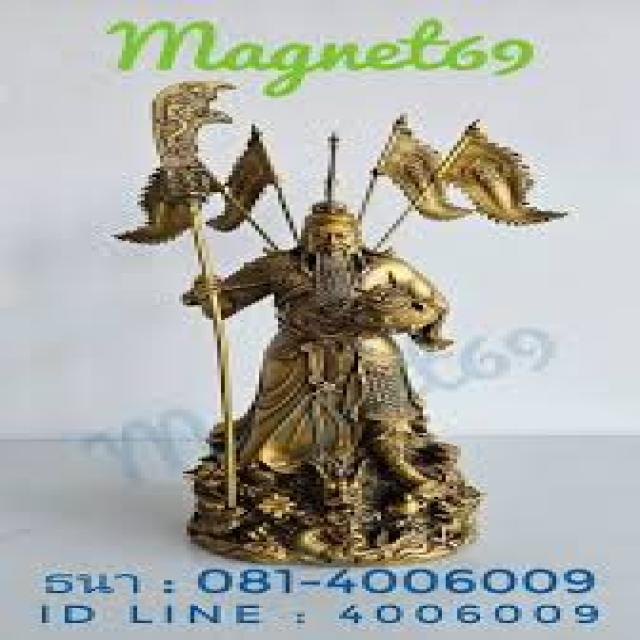Guan Yu: (206, 205, 459, 512)
